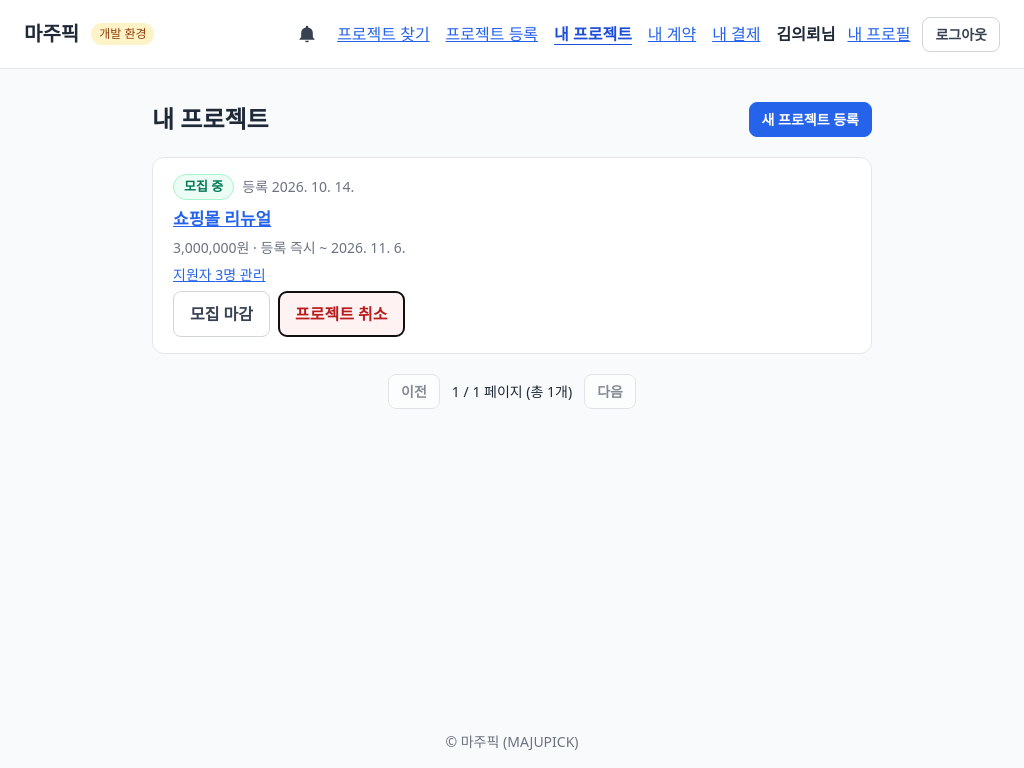
project cancel (client, STAT-02) › confirms with the pending count, keeps focus inside, and returns focus on Escape
Click the button "프로젝트 취소" at [341, 314], box [278, 291, 404, 337]
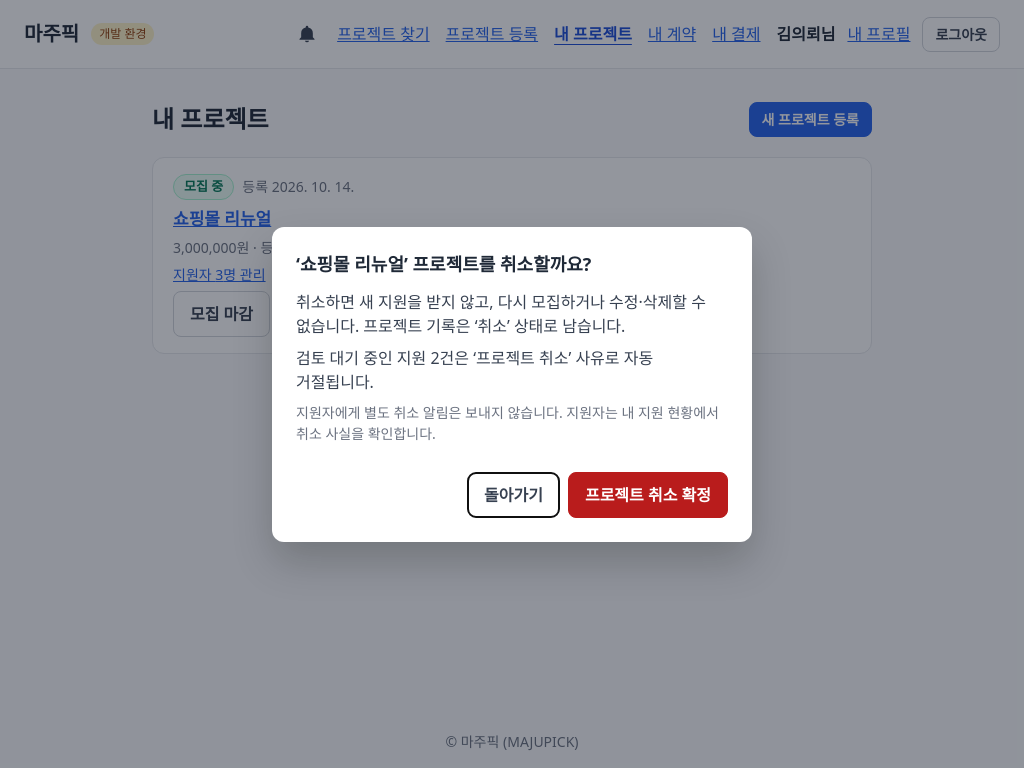
Result: the text "검토 대기 중인 지원 2건은 ‘프로젝트 취소’ 사유로 자동 거절됩니다." is shown at [296, 346, 653, 392]
Press Tab in the button "프로젝트 취소 확정", box [568, 472, 728, 518]
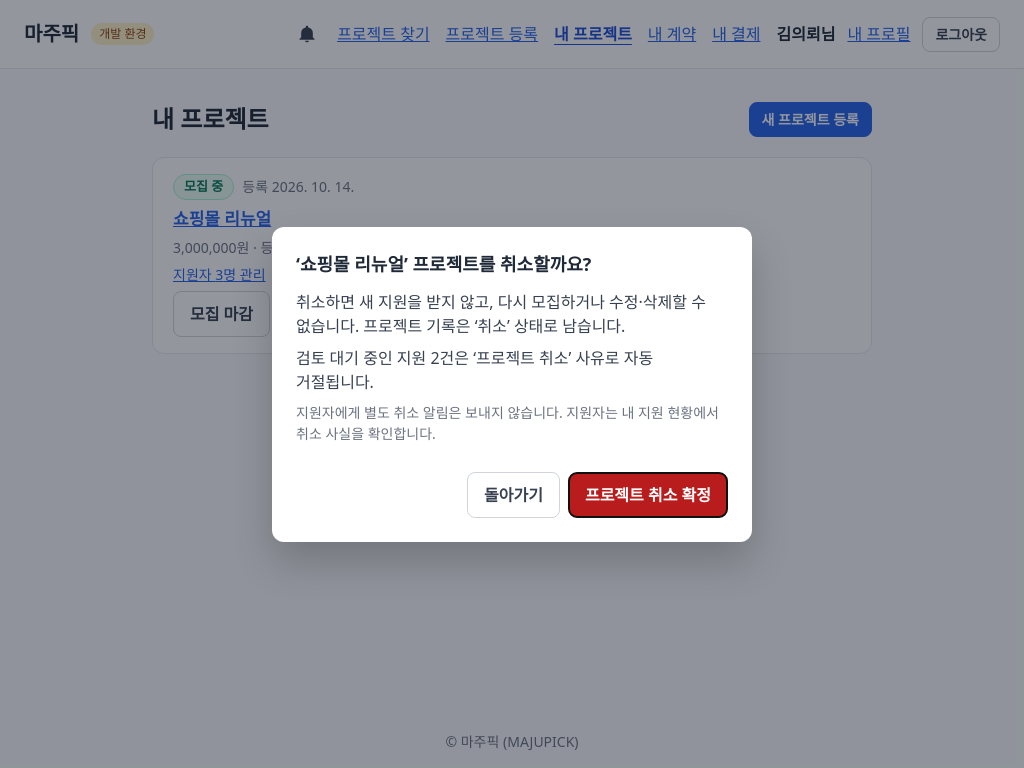
Press Tab in the button "프로젝트 취소 확정", box [568, 472, 728, 518]
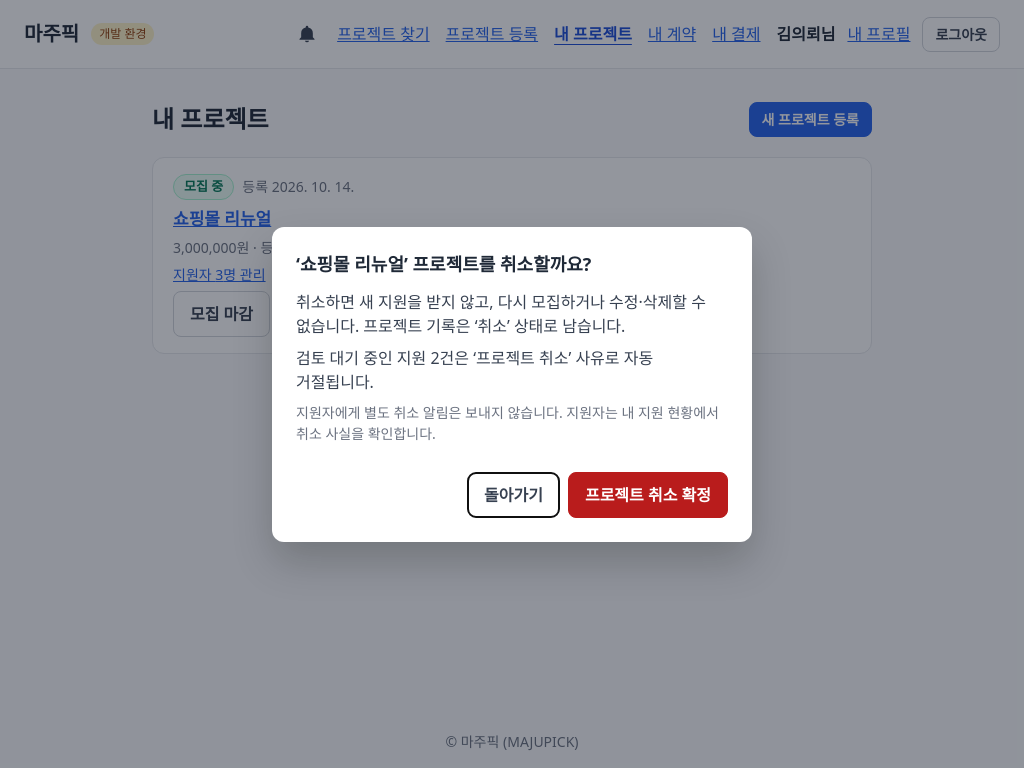
Press Tab in the button "돌아가기", box [467, 472, 560, 518]
Press Escape in the dialog "‘쇼핑몰 리뉴얼’ 프로젝트를 취소할까요?", box [272, 226, 752, 542]
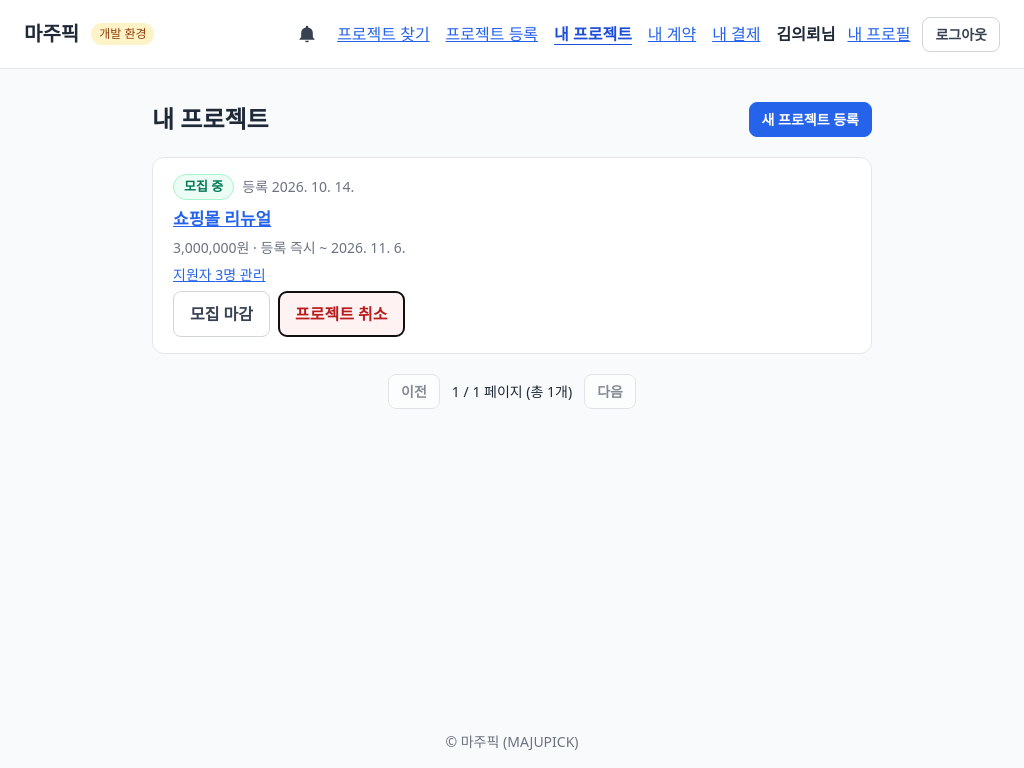
Result: the dialog is gone
